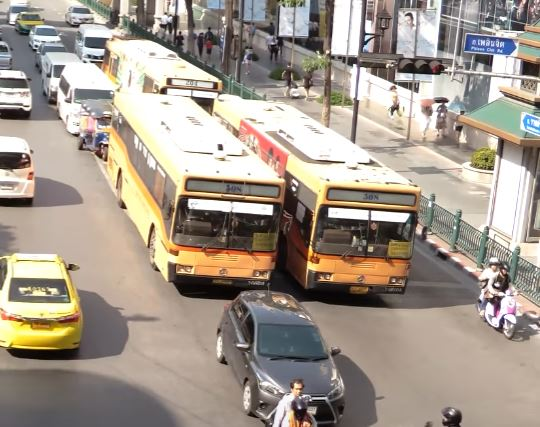Bus: (210, 94, 423, 295), (105, 90, 285, 295), (101, 38, 222, 112), (56, 61, 117, 133), (40, 51, 82, 103), (75, 24, 113, 66)
Car: (216, 289, 346, 420), (1, 252, 84, 353), (1, 136, 37, 201), (1, 69, 34, 115), (27, 25, 60, 48), (17, 10, 43, 34), (66, 6, 94, 25)
Motorcycle: (475, 257, 523, 339)
TukTuk: (78, 99, 115, 163)
